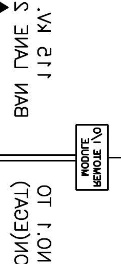remote_io_module: (75, 124, 109, 191)
